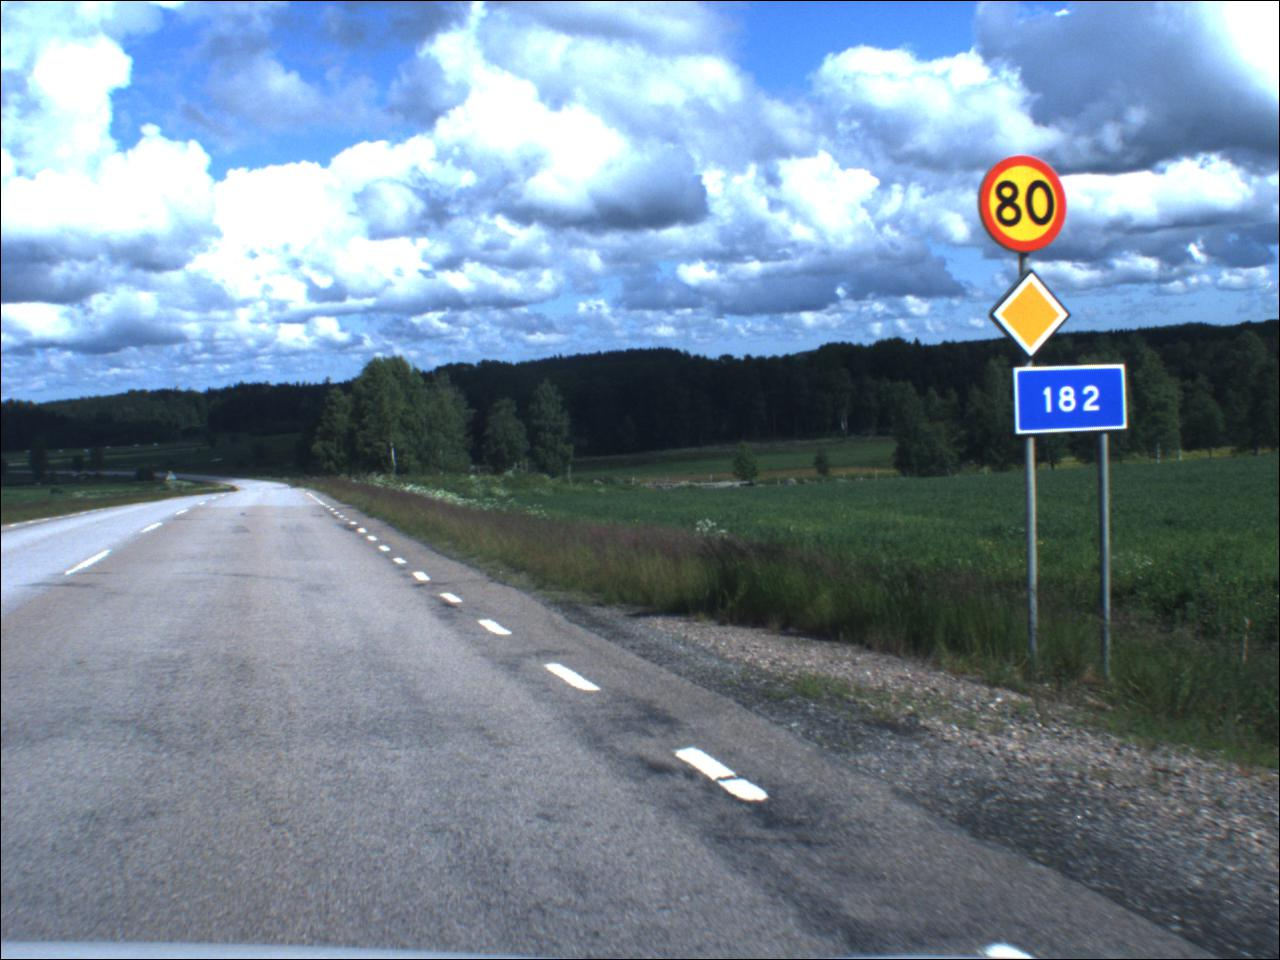80_SIGN: (978, 157, 1070, 254)
PRIORITY_ROAD: (993, 274, 1074, 360)
